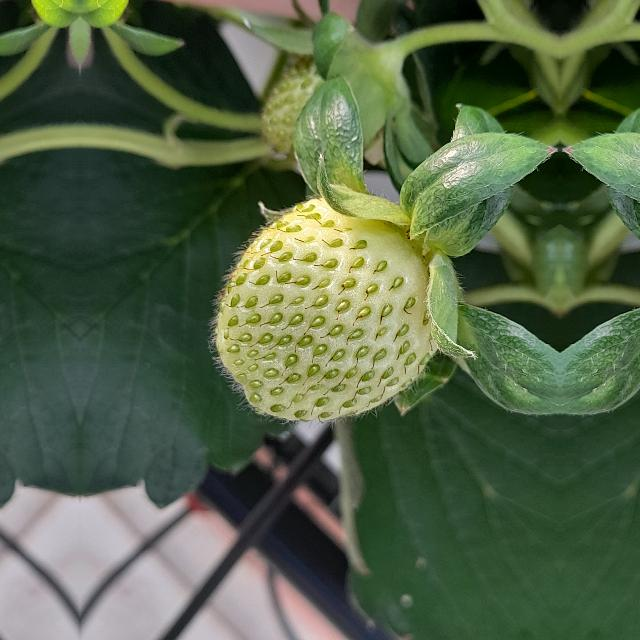Health_25: (205, 196, 437, 428)
